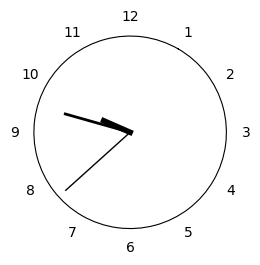12: (122, 8, 138, 22)
circle: (34, 36, 227, 228)
hours: (100, 117, 134, 135)
minutes: (63, 112, 129, 132)
seconds: (64, 135, 128, 191)
